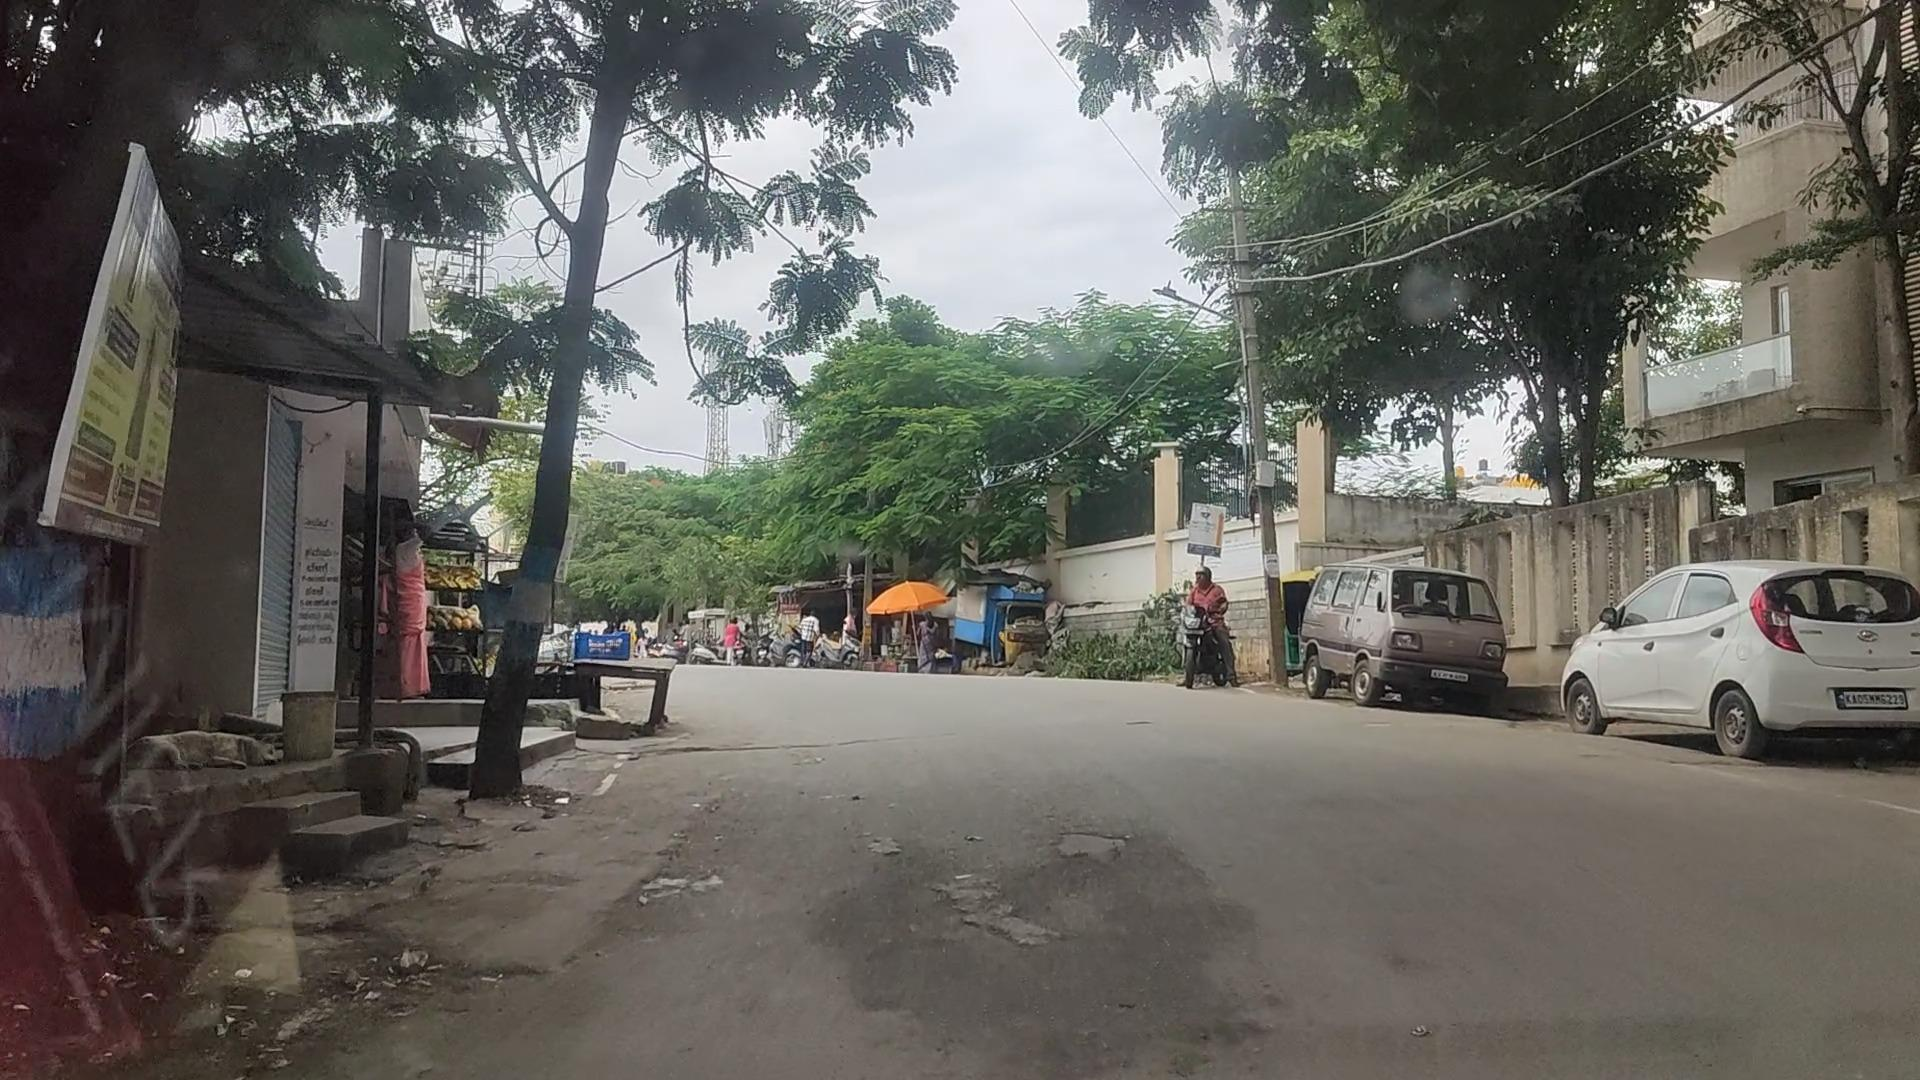RoadDamages: (894, 823, 1158, 952)
